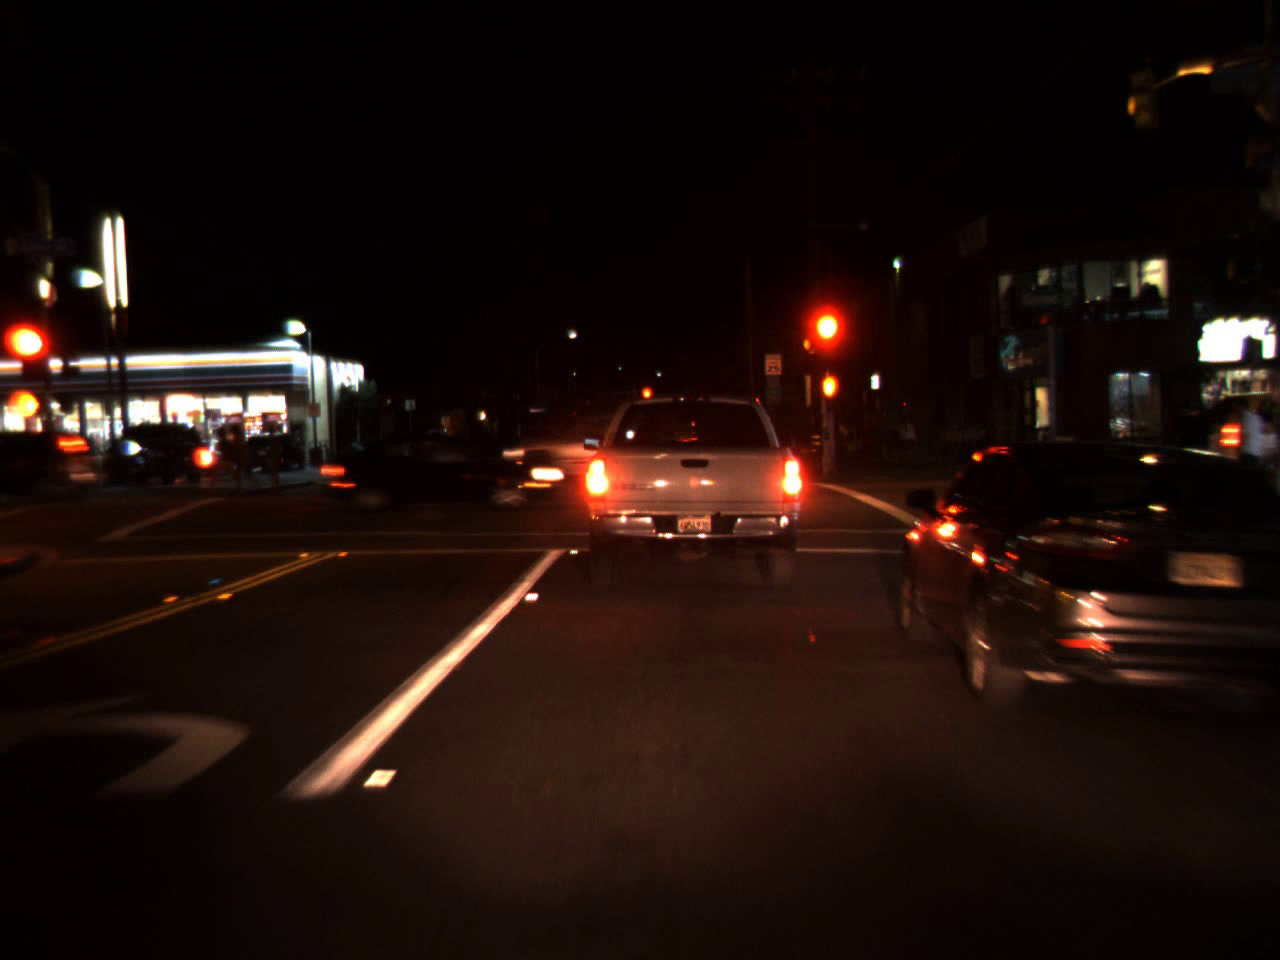stop: (803, 305, 842, 383), (8, 322, 50, 392), (640, 385, 653, 412)
